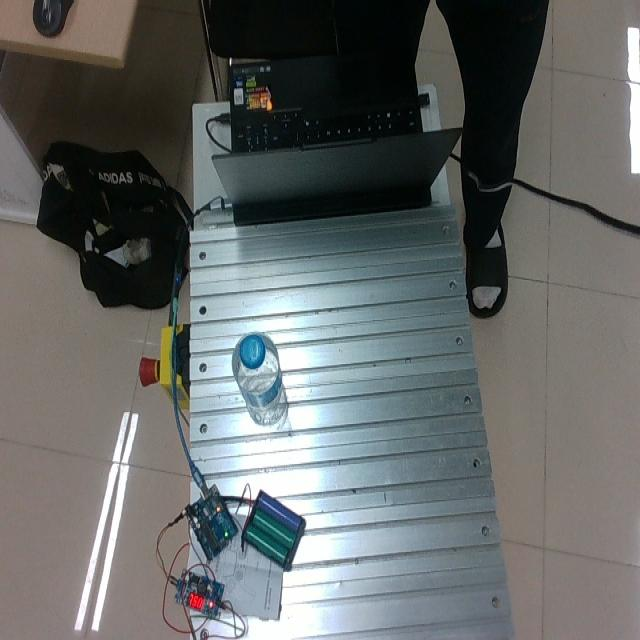lavie: (232, 331, 287, 426)
